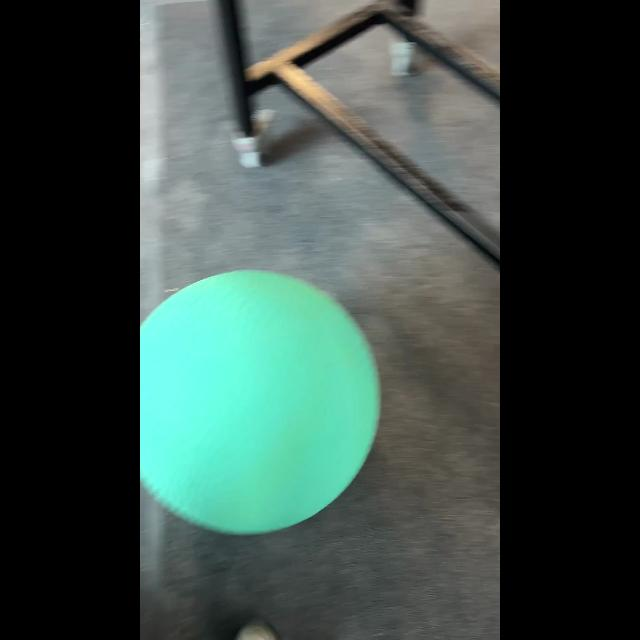ALGAE: (140, 268, 382, 536)
